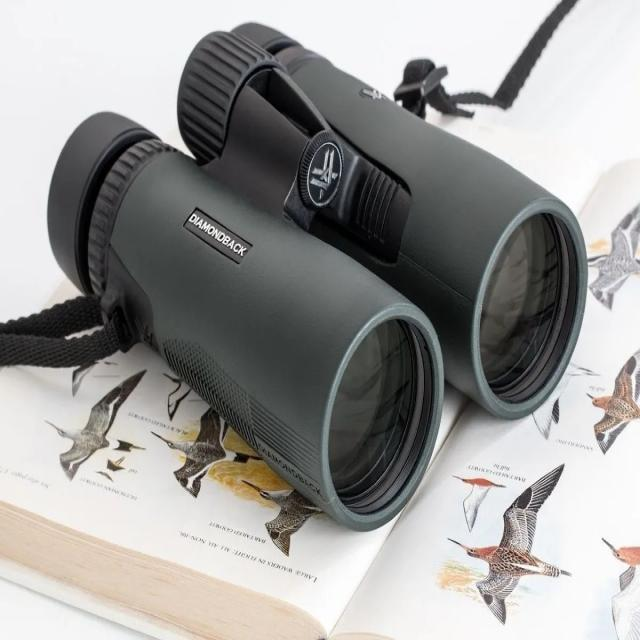Binocular: (39, 14, 596, 542)
